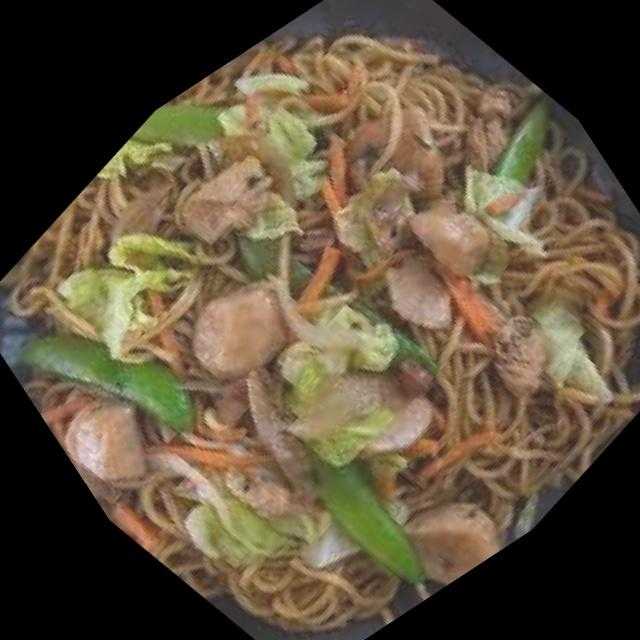pancit bihon: (0, 47, 639, 613)
